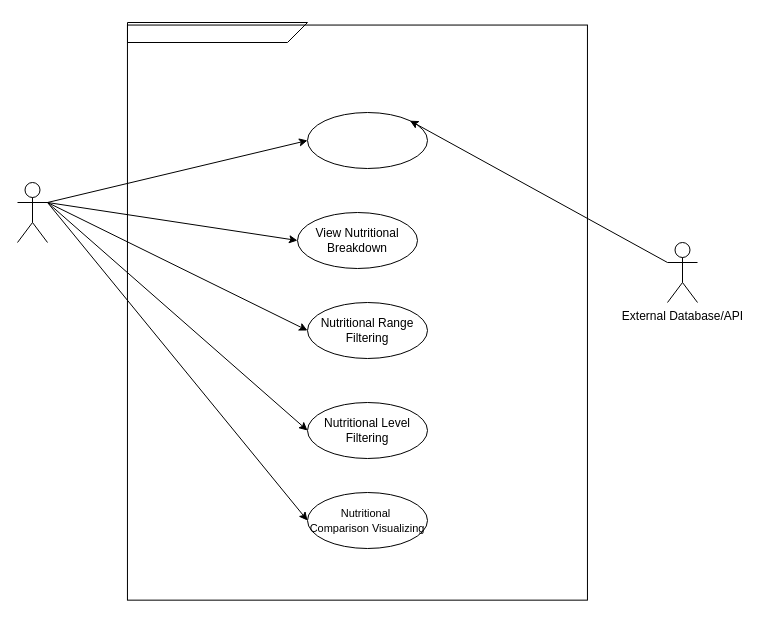
Image size: 760x618. Some labels were removed from this diagram. Each missing label, with the centre of its shape:
"Nutrient Analyzer System" belongs at point 217,32.
"Search Food Item" belongs at point 367,140.
"User" belongs at point 32,212.
